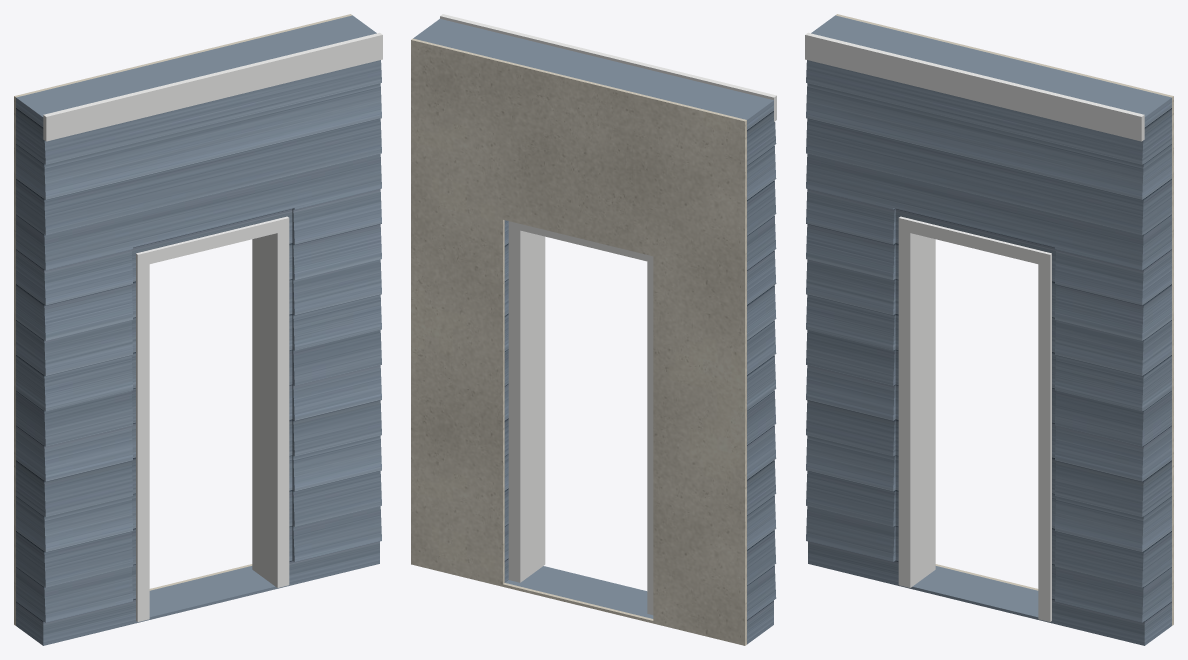
Rendered from wall_siding_door_inner.glb.
3 views of the same model, side by side, from view 1: azimuth 30°, elevation 25°; view 2: azimuth 150°, elevation 25°; view 3: azimuth 330°, elevation 25° (orthographic).
Parts seen in each view (by area): view 1: wall_siding_door_inner_siding, wall_siding_door_inner_frame, wall_siding_door_inner_trim, wall_siding_door_inner_plaster; view 2: wall_siding_door_inner_plaster, wall_siding_door_inner_siding, wall_siding_door_inner_frame, wall_siding_door_inner_trim; view 3: wall_siding_door_inner_siding, wall_siding_door_inner_frame, wall_siding_door_inner_trim, wall_siding_door_inner_plaster.
Part boxes in pixels (bbox=[...]): wall_siding_door_inner_siding: bbox=[16, 15, 381, 645]; wall_siding_door_inner_frame: bbox=[136, 216, 289, 621]; wall_siding_door_inner_trim: bbox=[43, 32, 382, 141]; wall_siding_door_inner_plaster: bbox=[14, 14, 352, 625]; wall_siding_door_inner_plaster: bbox=[411, 38, 746, 645]; wall_siding_door_inner_siding: bbox=[413, 19, 776, 644]; wall_siding_door_inner_frame: bbox=[508, 221, 653, 614]; wall_siding_door_inner_trim: bbox=[440, 14, 776, 121]; wall_siding_door_inner_siding: bbox=[806, 15, 1171, 645]; wall_siding_door_inner_frame: bbox=[898, 216, 1051, 621]; wall_siding_door_inner_trim: bbox=[805, 32, 1144, 141]; wall_siding_door_inner_plaster: bbox=[835, 14, 1173, 625].
Bounding box in the file's own units: 2 × 3.02 × 0.33.
4 materials, 2 textured.
